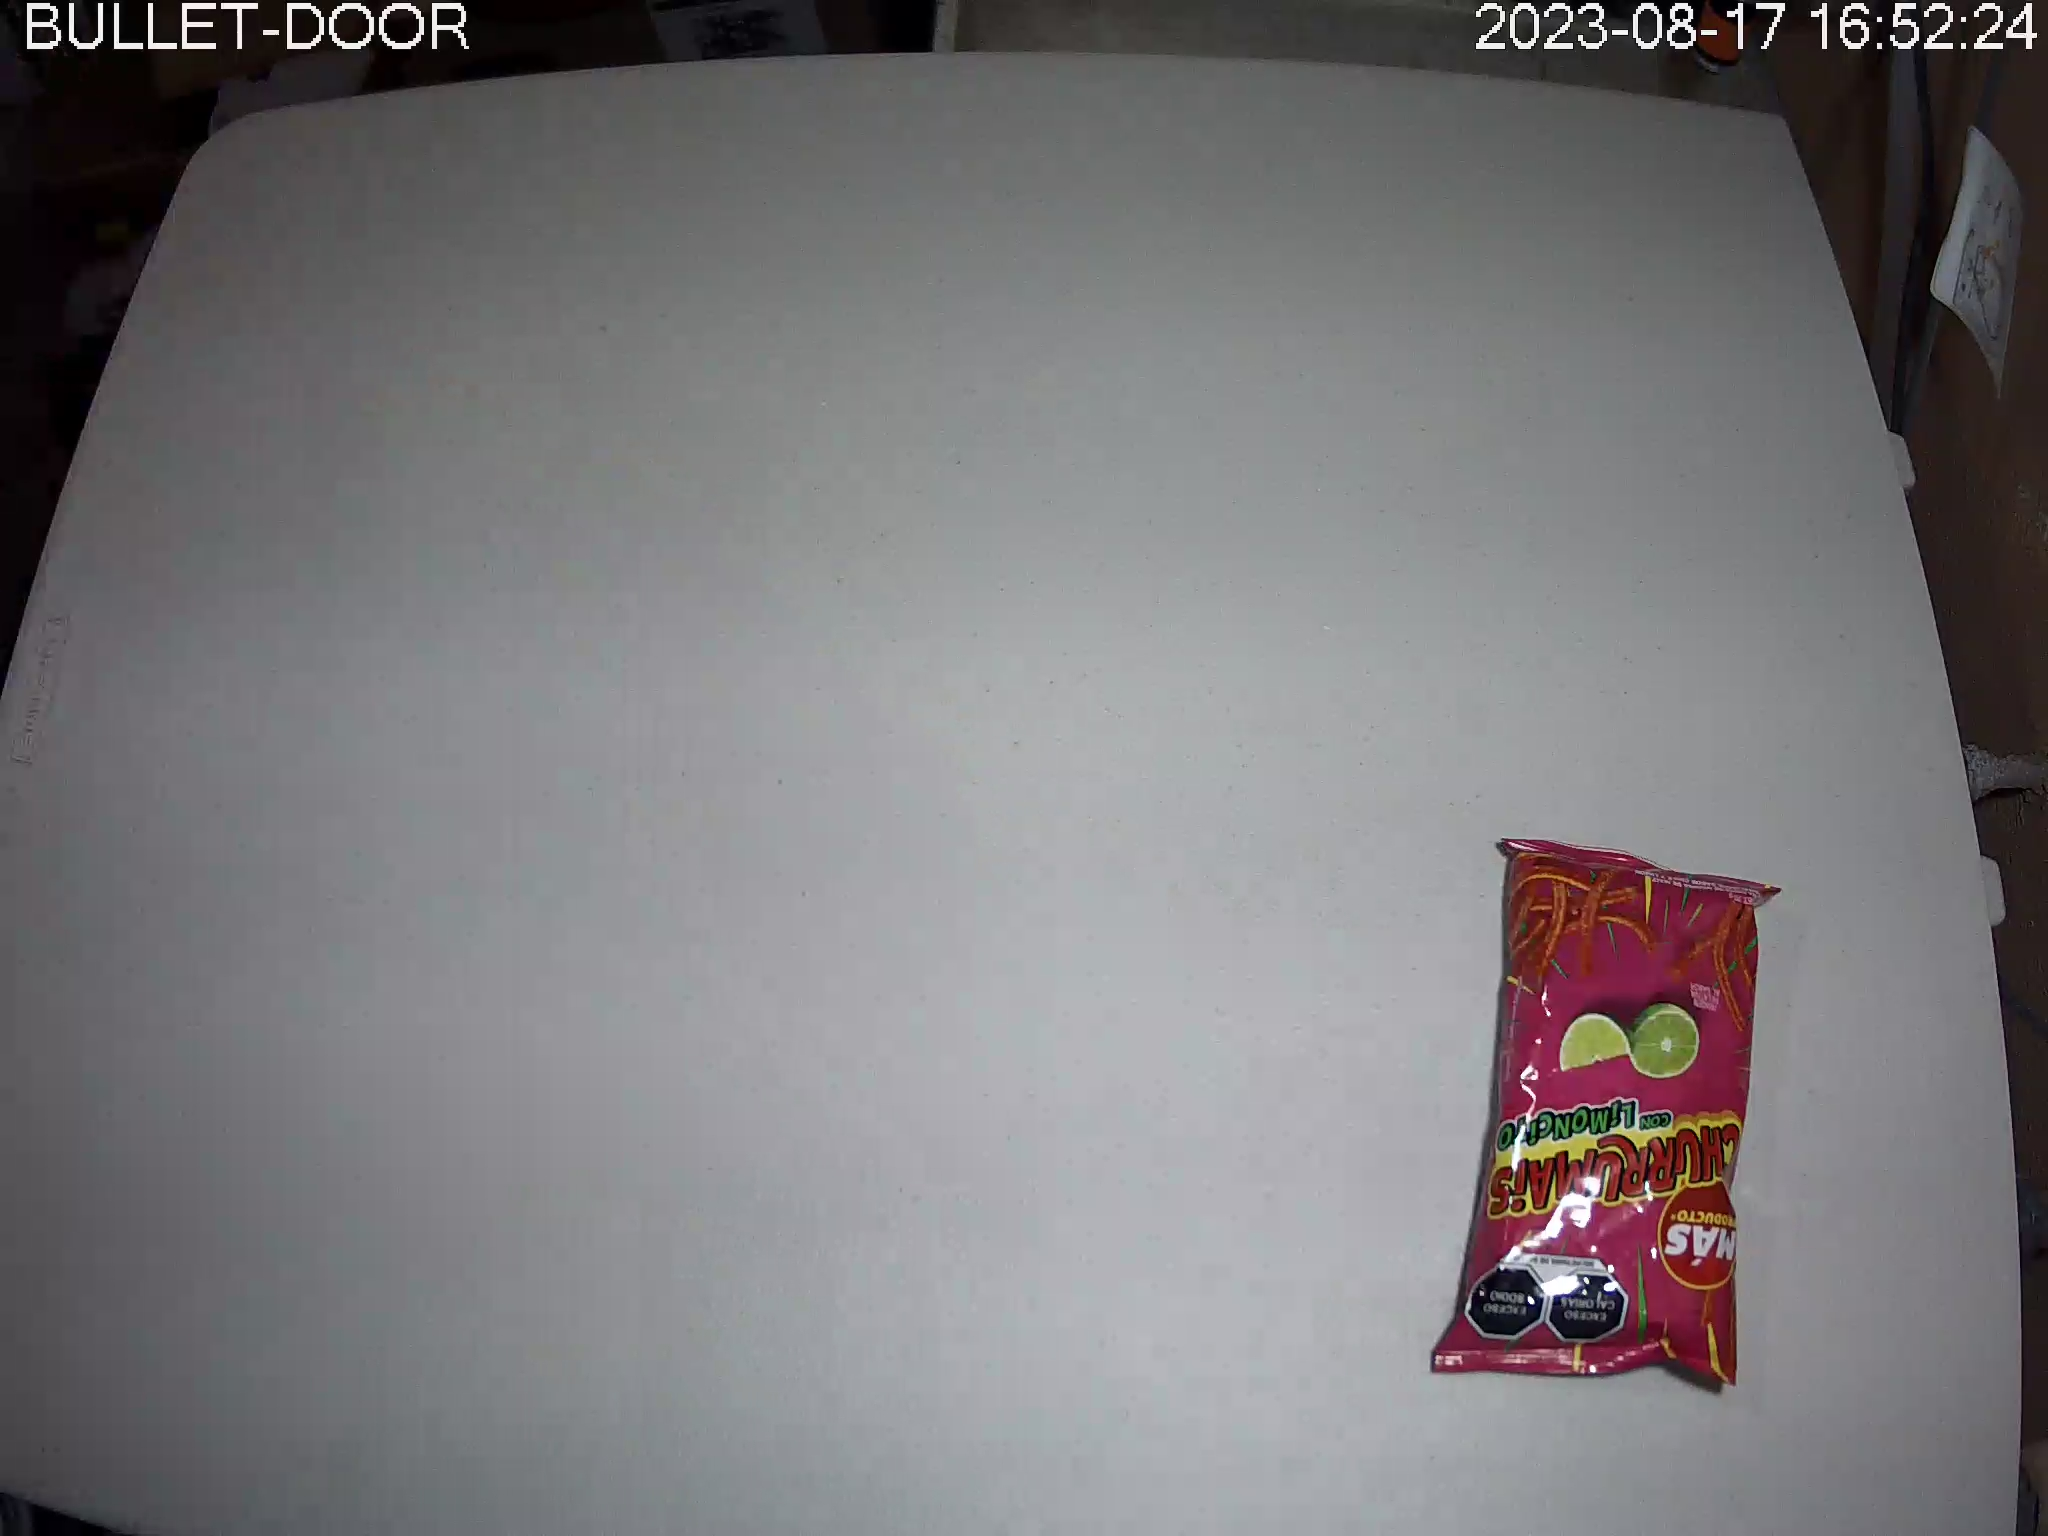Churrumais_70_F: (1429, 837, 1787, 1391)
